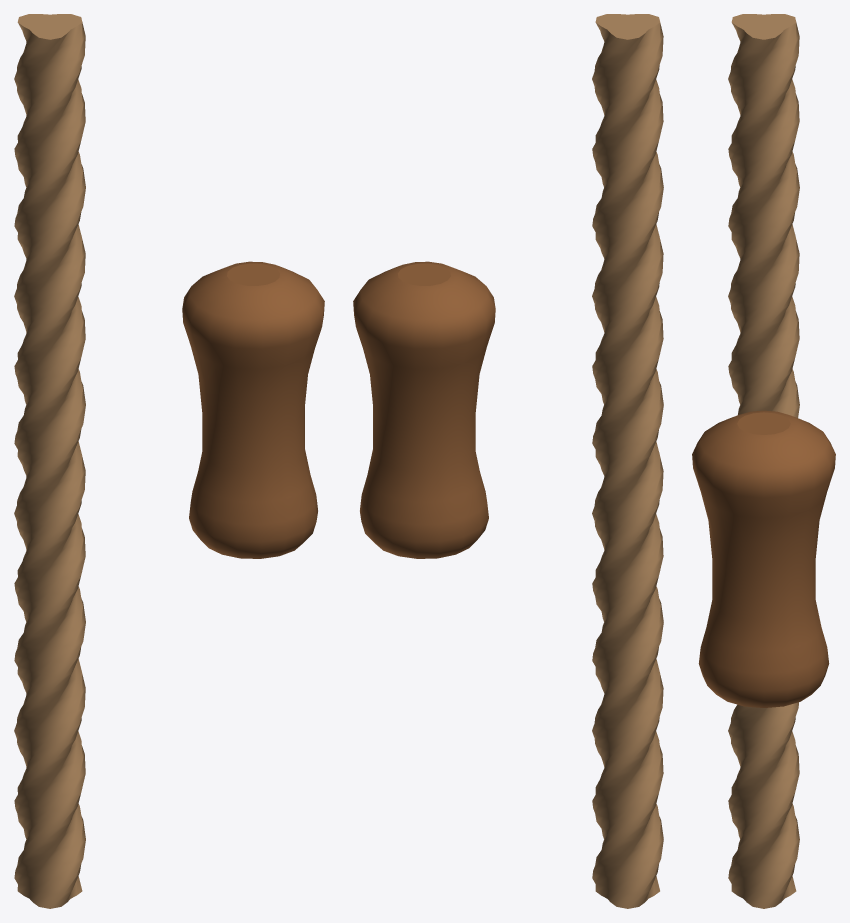
The model's file is TheatreRope.fbx.
The picture shows the model from 3 angles, left to right: view 1: azimuth 30°, elevation 25°; view 2: azimuth 150°, elevation 25°; view 3: azimuth 270°, elevation 25°; orthographic projection.
Parts seen in each view (by area): view 1: SM_TheatreRope_Segment, SM_TheatreRope_Grip; view 2: SM_TheatreRope_Segment, SM_TheatreRope_Grip; view 3: SM_TheatreRope_Segment, SM_TheatreRope_Grip.
Boxes of the visible parts, x1=… form: SM_TheatreRope_Segment: x1=14, y1=14, x2=85, y2=908; SM_TheatreRope_Grip: x1=182, y1=261, x2=324, y2=558; SM_TheatreRope_Segment: x1=592, y1=14, x2=663, y2=908; SM_TheatreRope_Grip: x1=353, y1=261, x2=495, y2=558; SM_TheatreRope_Segment: x1=728, y1=14, x2=799, y2=908; SM_TheatreRope_Grip: x1=692, y1=410, x2=835, y2=707.
Size of the model in its own units: 35.75 by 15 by 100.
